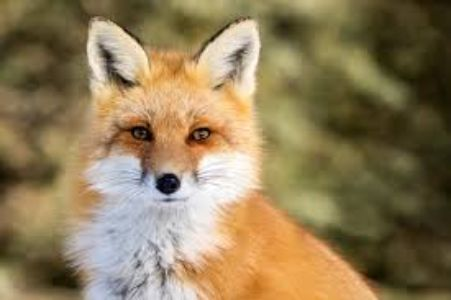fox: (69, 2, 373, 285)
